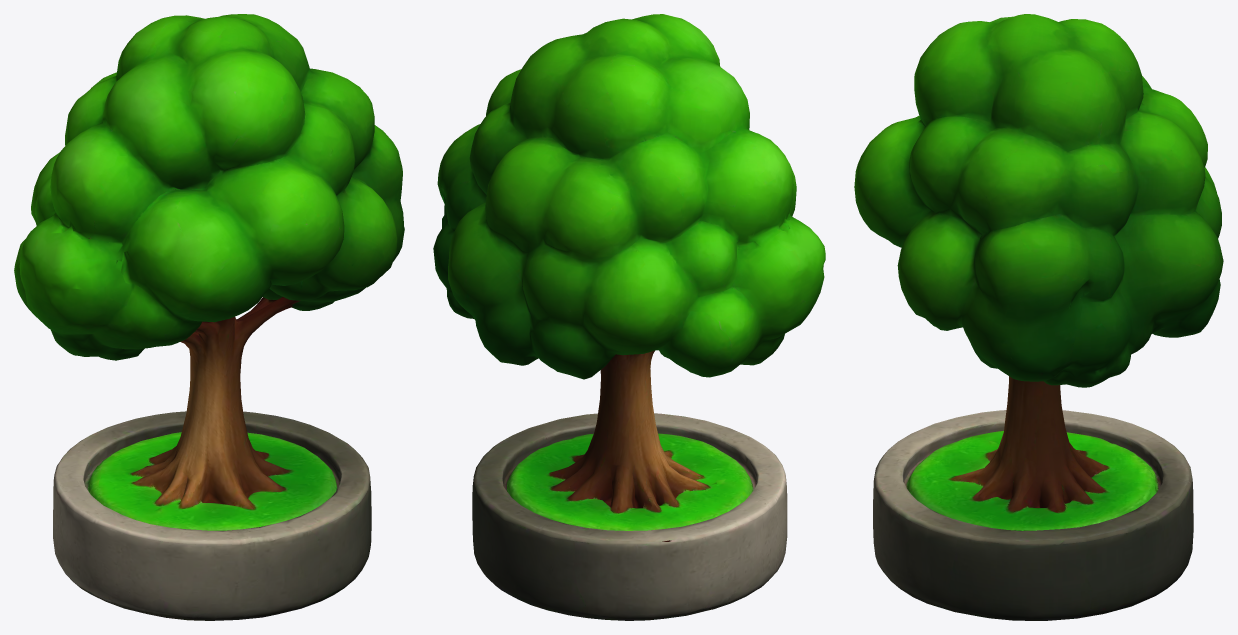
Rendered from bb_tree.glb.
3 views of the same model, side by side, from view 1: azimuth 30°, elevation 25°; view 2: azimuth 150°, elevation 25°; view 3: azimuth 270°, elevation 25° (orthographic). The views are drawn at different scales.
Bounding box in the file's own units: 0.711 × 1 × 0.6164.
1 material, 1 textured.
